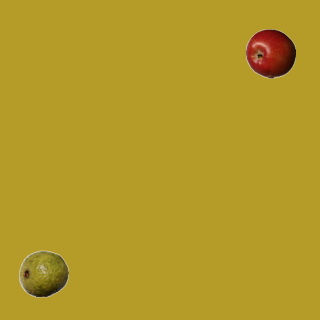Apple Braeburn: (245, 28, 295, 78)
Guava: (18, 248, 68, 298)
